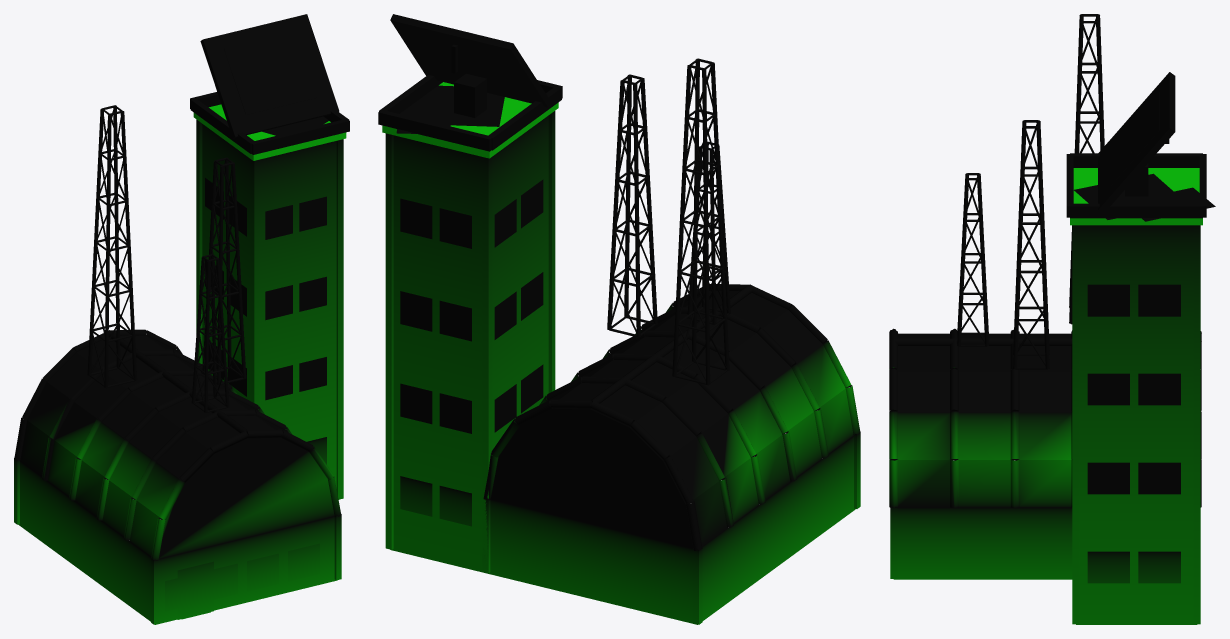
File: l_sensorcontrol.glb
3 renders of one model, left to right at view 1: azimuth 30°, elevation 25°; view 2: azimuth 150°, elevation 25°; view 3: azimuth 270°, elevation 25°, orthographic. The views are drawn at different scales.
Visible parts, largest first — view 1: lod0; view 2: lod0; view 3: lod0.
Boxes of the visible parts, x1=… form: lod0: x1=14, y1=14, x2=349, y2=624; lod0: x1=378, y1=14, x2=860, y2=624; lod0: x1=889, y1=14, x2=1215, y2=624.
Size of what is drawn, in the model's own units: 15.56 by 23.73 by 14.
